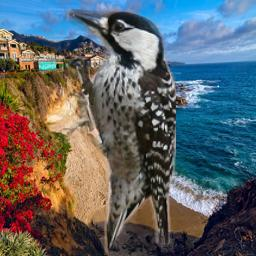Woodpecker: (58, 9, 176, 255)
